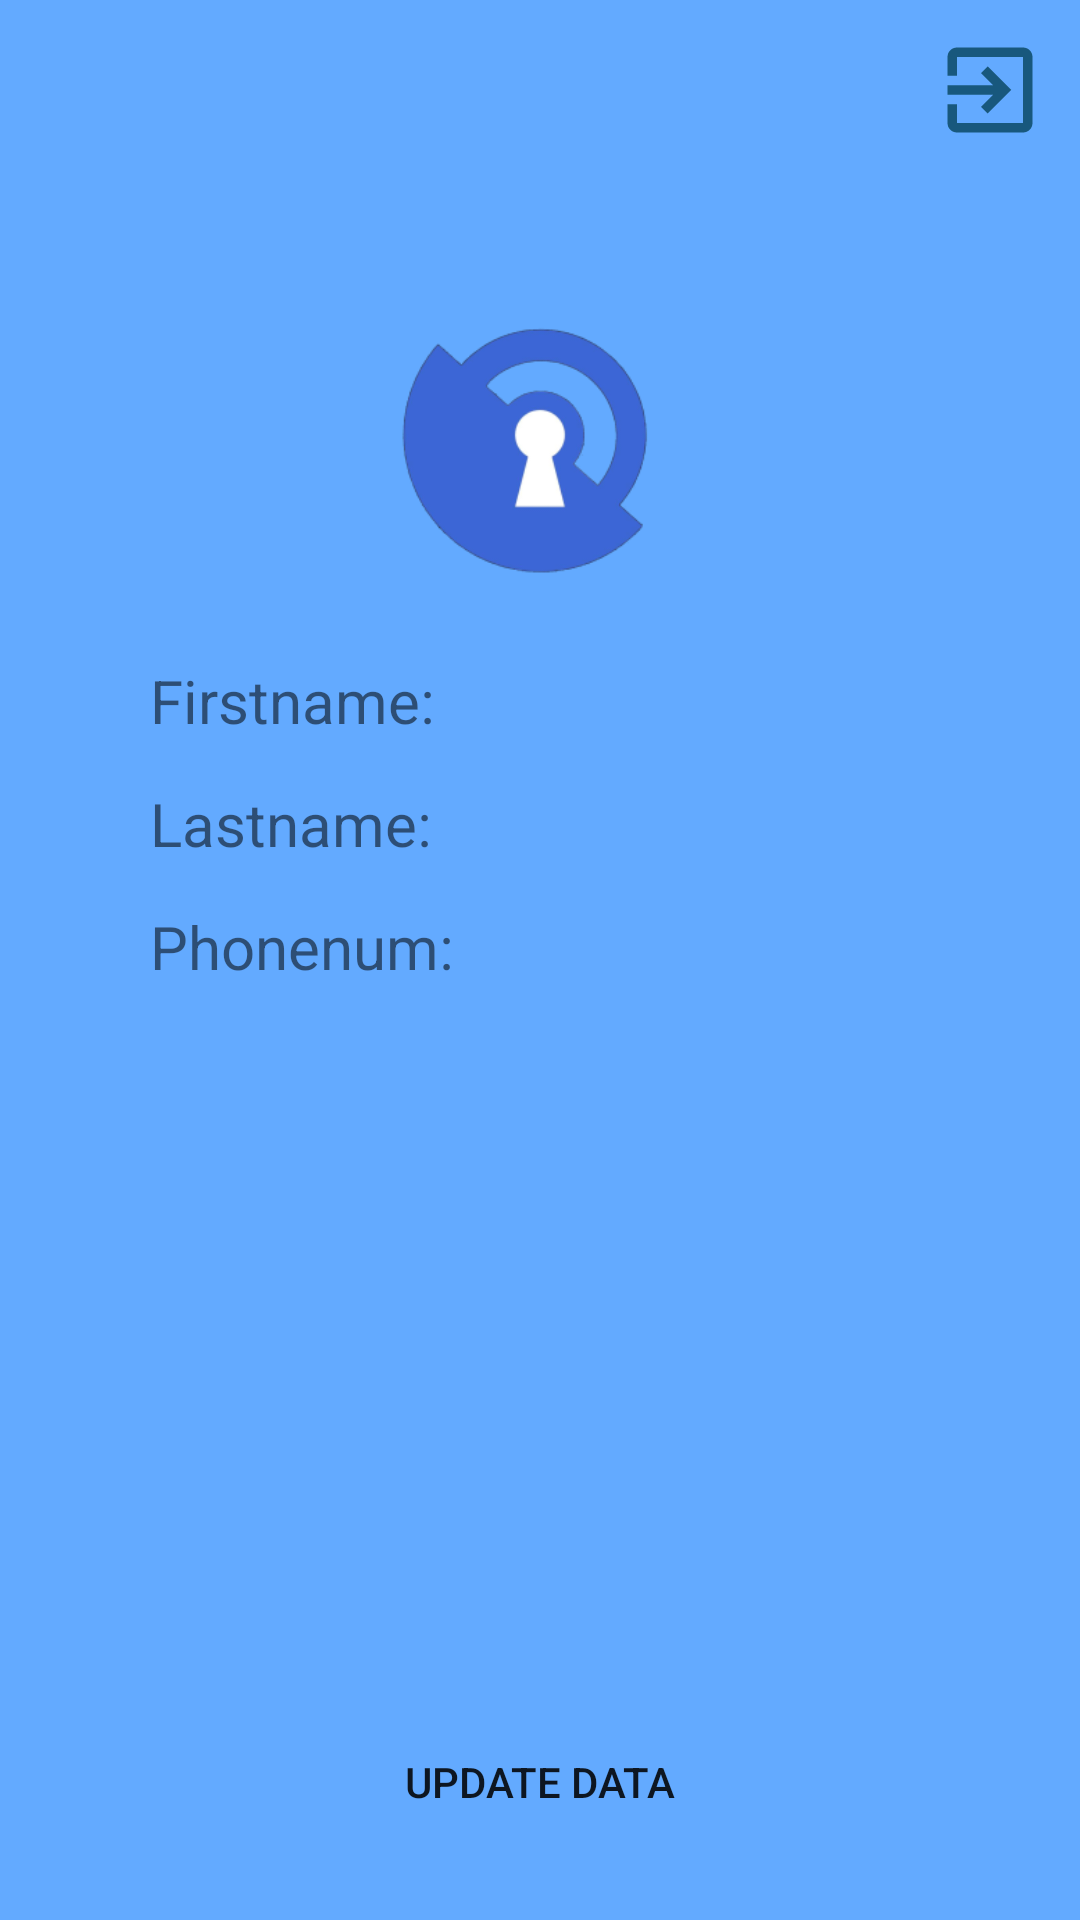

Locate icon controls on the screen. Image size 1080px x 1920px, boxes as [x1, y1, x2, y2].
exit: [947, 47, 1033, 133]
